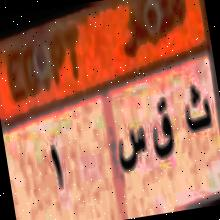1: (42, 136, 70, 198)
qaaf: (144, 95, 180, 172)
seen: (112, 119, 150, 176)
thaa: (177, 77, 218, 146)
